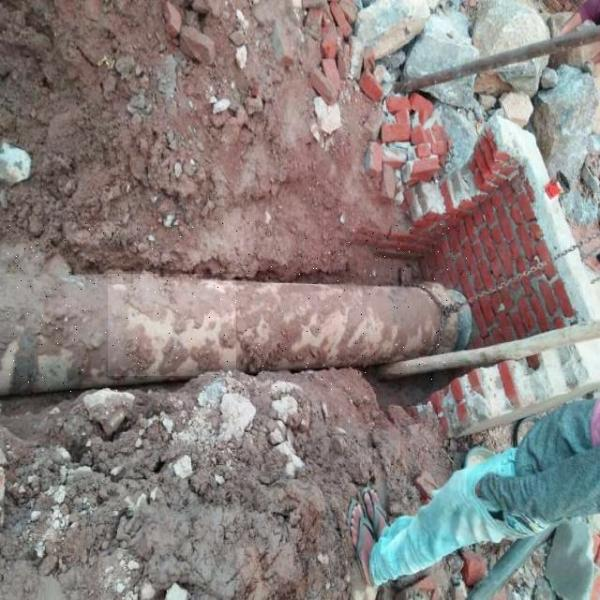no leak: (108, 274, 236, 376)
